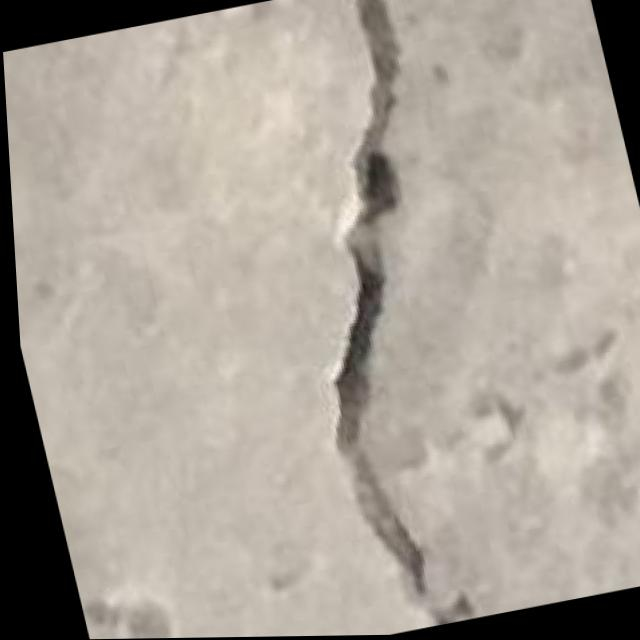Crack: (208, 0, 551, 638)
